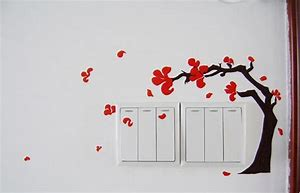switch: (220, 105, 244, 164), (117, 105, 141, 163), (154, 106, 178, 163), (184, 105, 207, 164), (202, 106, 225, 164), (136, 106, 159, 163)
